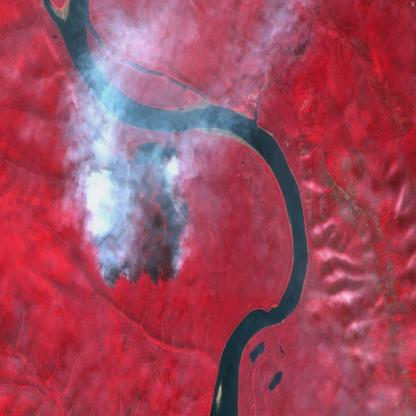fire: (87, 159, 190, 290)
